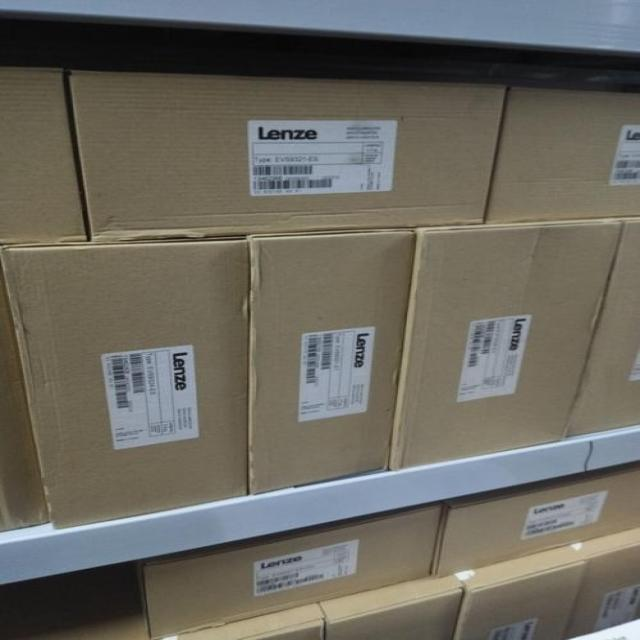box: (70, 69, 508, 242), (0, 238, 248, 529), (392, 219, 623, 470), (250, 229, 413, 495), (132, 503, 440, 640), (434, 463, 639, 577), (488, 88, 639, 223), (567, 218, 640, 438), (0, 67, 88, 244), (0, 257, 50, 532), (453, 545, 590, 639), (0, 563, 148, 640), (321, 576, 462, 639), (567, 527, 639, 639), (156, 603, 325, 640)
